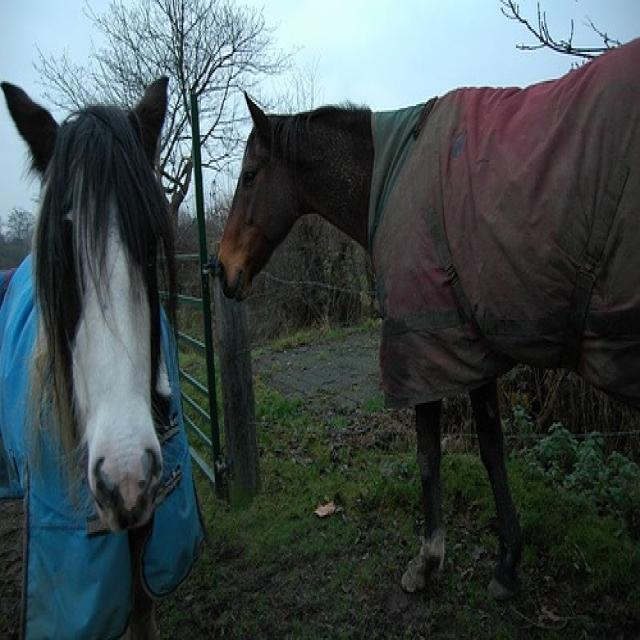horse: (210, 35, 639, 605), (4, 68, 203, 638)
